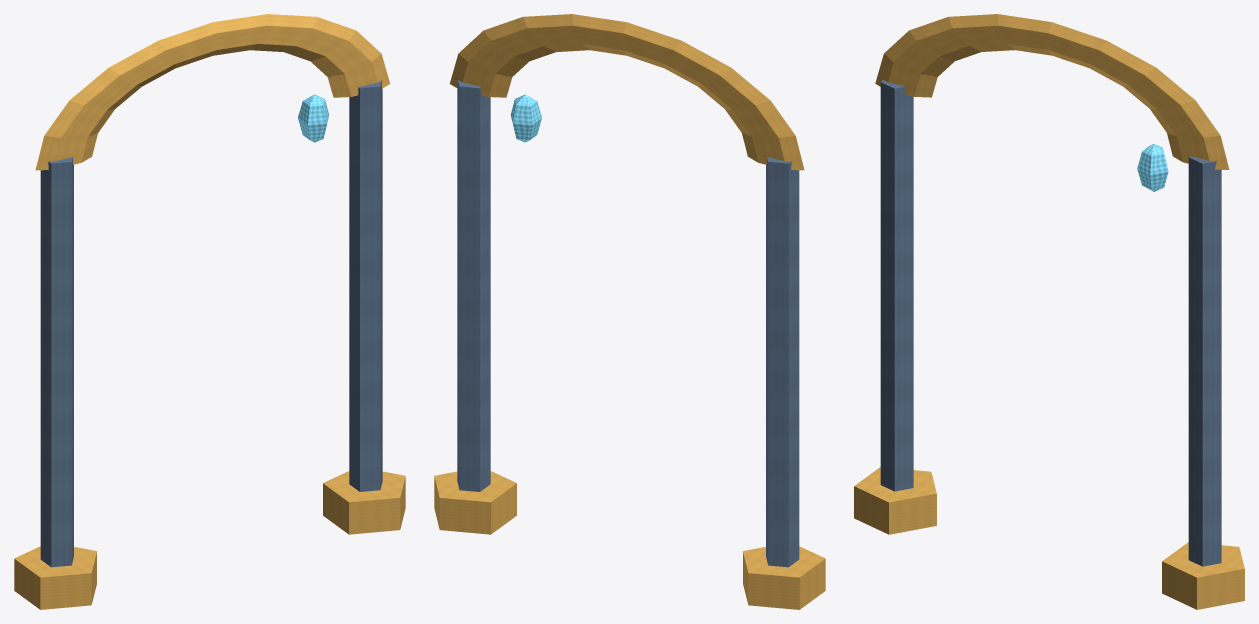
File: atlas100-s051-a09.lod1.glb
3 views of the same model, side by side, from view 1: azimuth 30°, elevation 25°; view 2: azimuth 150°, elevation 25°; view 3: azimuth 330°, elevation 25° (orthographic).
Visible parts, largest first — view 1: atlas100-s051-a09:part-004, atlas100-s051-a09:part-000, atlas100-s051-a09:part-002, atlas100-s051-a09:part-003, atlas100-s051-a09:part-001, atlas100-s051-a09:part-006; view 2: atlas100-s051-a09:part-004, atlas100-s051-a09:part-000, atlas100-s051-a09:part-002, atlas100-s051-a09:part-003, atlas100-s051-a09:part-001, atlas100-s051-a09:part-006; view 3: atlas100-s051-a09:part-004, atlas100-s051-a09:part-002, atlas100-s051-a09:part-000, atlas100-s051-a09:part-003, atlas100-s051-a09:part-001, atlas100-s051-a09:part-006.
Boxes of the visible parts, x1=… form: atlas100-s051-a09:part-004: x1=35, y1=14, x2=390, y2=170; atlas100-s051-a09:part-000: x1=40, y1=157, x2=73, y2=567; atlas100-s051-a09:part-002: x1=349, y1=80, x2=382, y2=491; atlas100-s051-a09:part-003: x1=323, y1=471, x2=405, y2=534; atlas100-s051-a09:part-001: x1=14, y1=546, x2=96, y2=609; atlas100-s051-a09:part-006: x1=298, y1=94, x2=329, y2=142; atlas100-s051-a09:part-004: x1=449, y1=14, x2=804, y2=170; atlas100-s051-a09:part-000: x1=766, y1=157, x2=799, y2=567; atlas100-s051-a09:part-002: x1=457, y1=80, x2=490, y2=491; atlas100-s051-a09:part-003: x1=434, y1=471, x2=516, y2=534; atlas100-s051-a09:part-001: x1=743, y1=546, x2=825, y2=609; atlas100-s051-a09:part-006: x1=510, y1=94, x2=541, y2=142; atlas100-s051-a09:part-004: x1=875, y1=14, x2=1229, y2=169; atlas100-s051-a09:part-002: x1=1188, y1=156, x2=1221, y2=566; atlas100-s051-a09:part-000: x1=880, y1=80, x2=913, y2=491; atlas100-s051-a09:part-003: x1=1162, y1=542, x2=1244, y2=609; atlas100-s051-a09:part-001: x1=854, y1=467, x2=936, y2=534; atlas100-s051-a09:part-006: x1=1137, y1=144, x2=1168, y2=191.
Bounding box in the file's own units: 2.45 × 3.3 × 0.4755.
3 materials, 3 textured.
